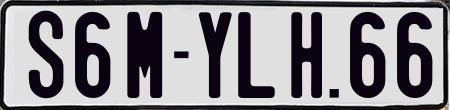6: (395, 12, 433, 103), (75, 10, 111, 100), (347, 9, 383, 99)
H: (291, 11, 325, 97)
L: (235, 9, 272, 96)
M: (127, 9, 162, 97)
S: (28, 10, 67, 98)
Y: (198, 12, 234, 100)
